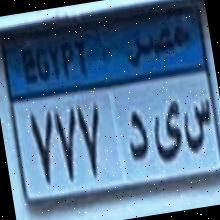7: (76, 98, 110, 175), (26, 108, 61, 182), (52, 107, 85, 181)
daal: (122, 103, 151, 162)
seen: (178, 91, 218, 150)
yaa: (148, 100, 184, 160)
